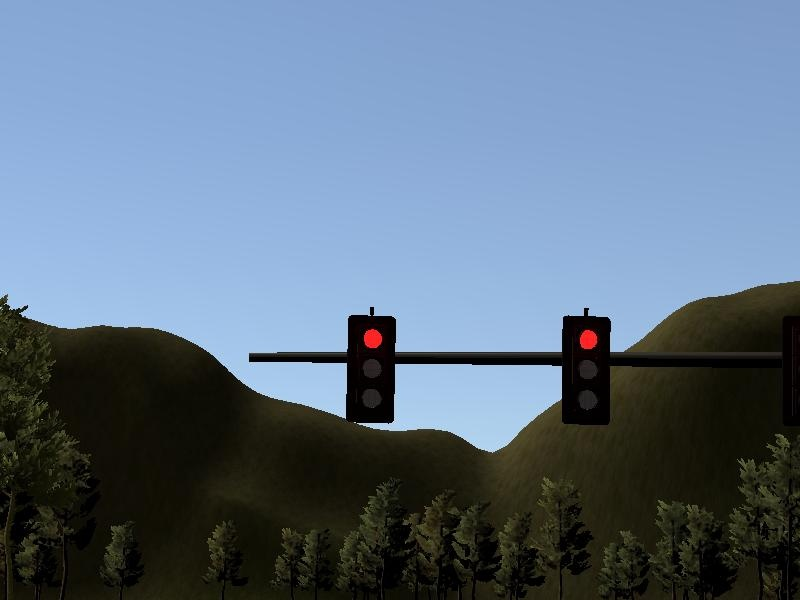red: (346, 313, 394, 426), (561, 312, 609, 425)
